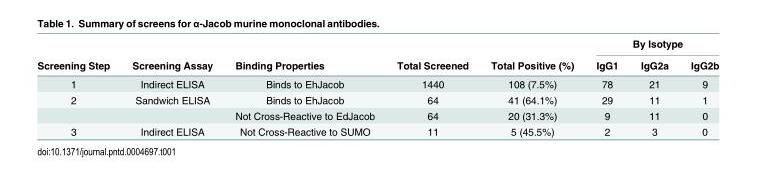table: (36, 37, 718, 136)
table column: (223, 37, 385, 136), (479, 37, 584, 136), (120, 37, 223, 136), (385, 37, 479, 136), (36, 37, 120, 136), (628, 37, 678, 136), (584, 37, 628, 136), (678, 37, 718, 136)
table column header: (36, 37, 718, 74)
table row: (36, 53, 718, 74), (36, 74, 718, 91), (36, 37, 718, 53), (36, 91, 718, 107), (36, 107, 718, 123), (36, 123, 718, 136)
table spanning cell: (223, 37, 385, 74), (479, 37, 584, 74), (120, 37, 223, 74), (385, 37, 479, 74), (36, 37, 120, 74), (36, 91, 120, 123), (584, 37, 718, 53)
